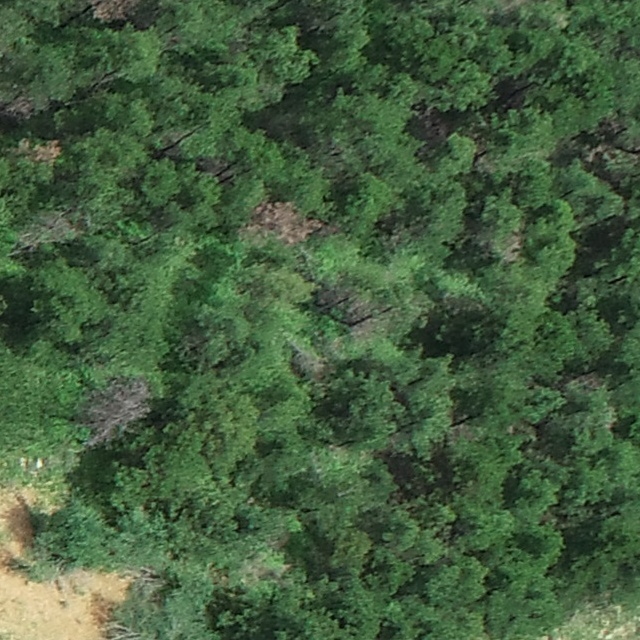unhealthy: (83, 378, 153, 448), (242, 201, 318, 243), (19, 210, 76, 249), (90, 0, 142, 24), (347, 297, 375, 333), (3, 94, 36, 122), (29, 137, 63, 162)
